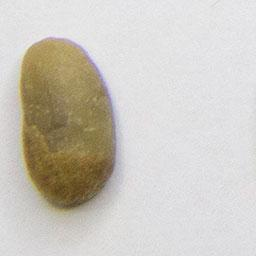longberry: (16, 32, 122, 212)
